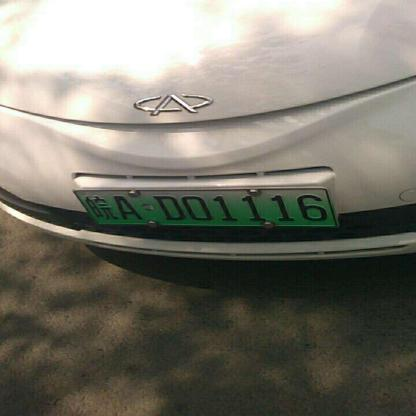lp: (74, 189, 335, 225)
